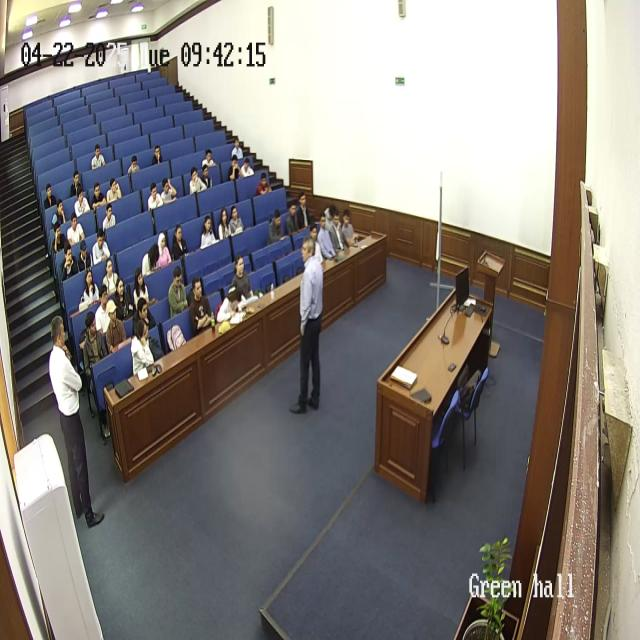person: (49, 315, 104, 529), (290, 235, 324, 415), (80, 310, 108, 382), (187, 277, 215, 337), (130, 317, 158, 373), (103, 300, 128, 358), (230, 255, 256, 305), (131, 295, 157, 344), (216, 285, 244, 327), (95, 284, 116, 340), (168, 266, 190, 319), (113, 276, 135, 324), (317, 214, 337, 262), (132, 268, 152, 314), (80, 268, 100, 310), (92, 228, 112, 268), (329, 209, 347, 253), (267, 207, 287, 246), (102, 255, 120, 298), (66, 211, 86, 249), (76, 236, 94, 276), (295, 193, 313, 232), (339, 209, 357, 247), (61, 244, 79, 282), (199, 214, 217, 250), (156, 231, 173, 269), (171, 224, 188, 262), (284, 200, 301, 238), (142, 243, 160, 277), (73, 188, 91, 220), (189, 164, 207, 196), (53, 213, 67, 254), (160, 176, 178, 205), (216, 209, 232, 241), (147, 180, 163, 212), (90, 184, 106, 215), (51, 200, 67, 231), (228, 206, 244, 236), (106, 176, 123, 204), (236, 154, 253, 180), (199, 161, 214, 190), (43, 184, 58, 213), (256, 170, 272, 197), (90, 143, 106, 169), (103, 203, 117, 232), (70, 172, 85, 199), (200, 148, 216, 172), (227, 157, 241, 183), (230, 137, 244, 162), (127, 154, 141, 177), (151, 145, 165, 166)
